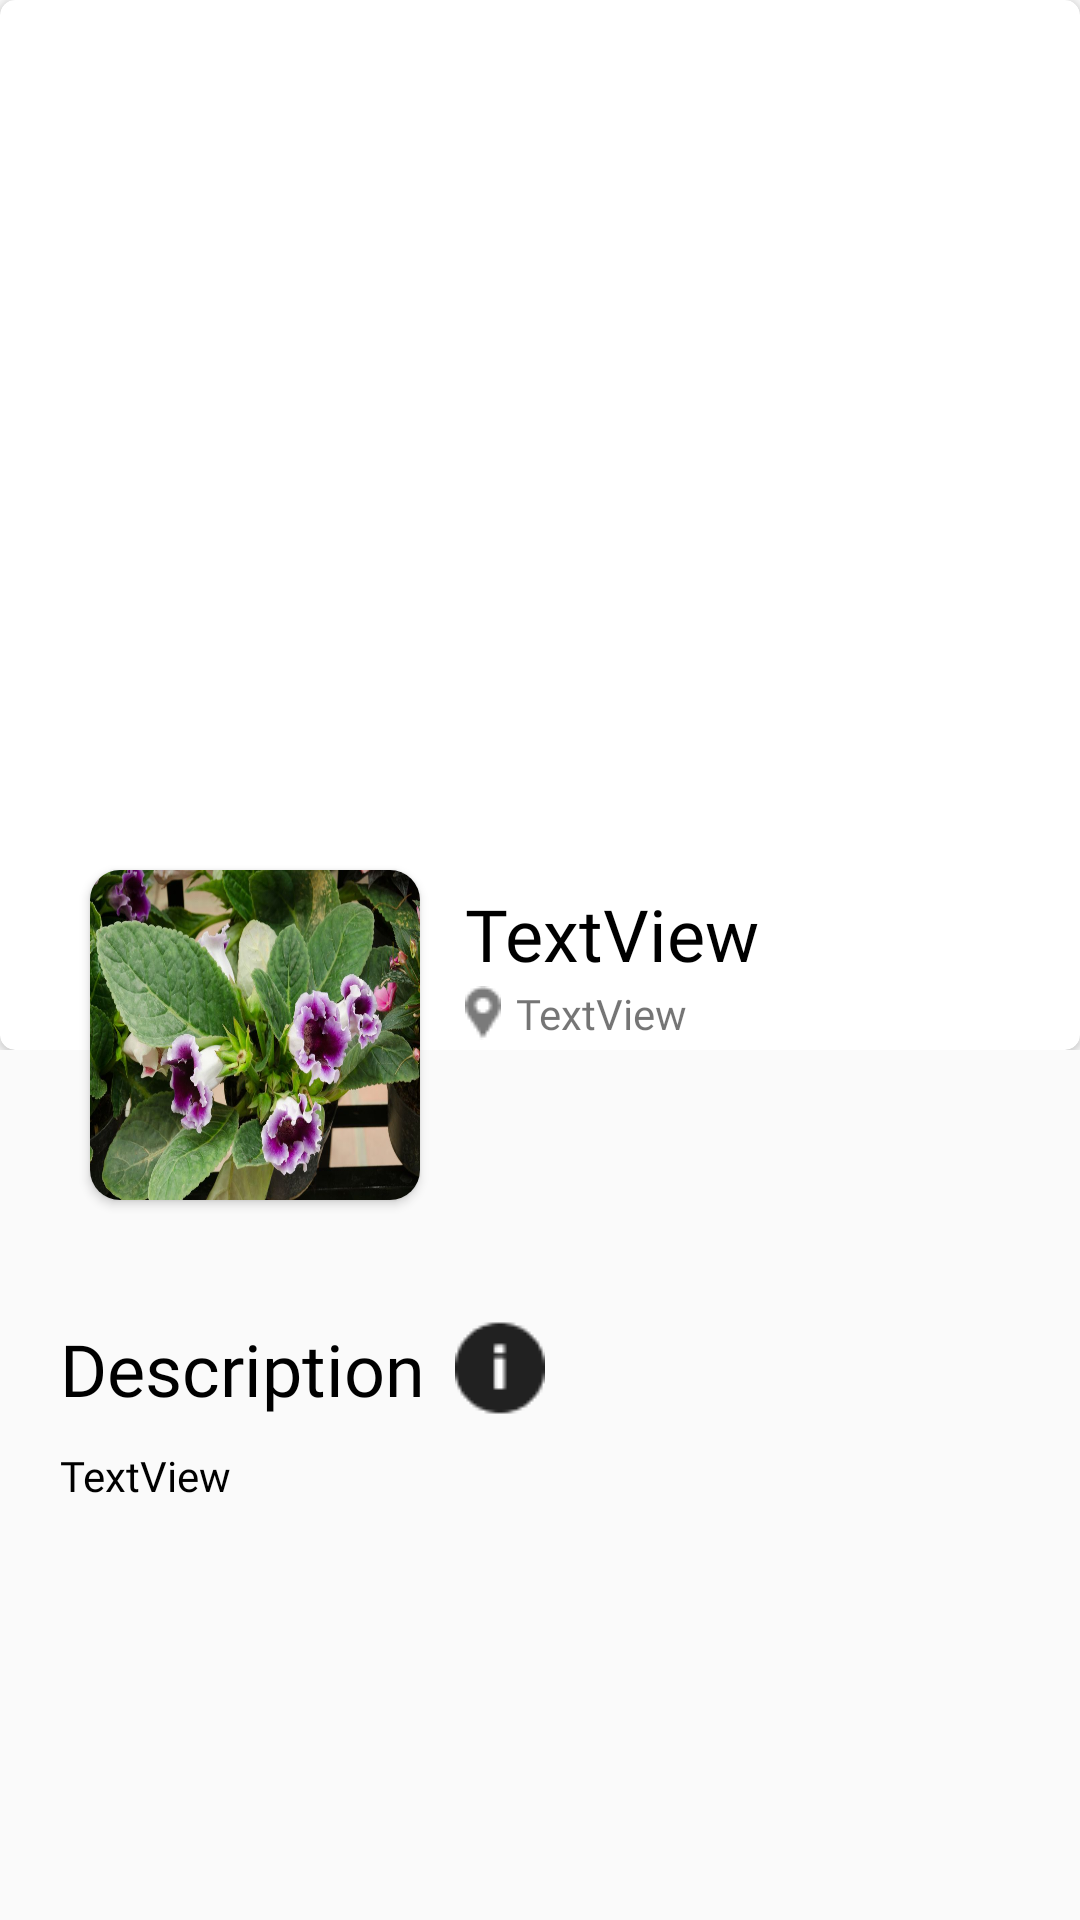

Icons on this 1080w x 1920h Android screen, each with the point to tap as [x,y]:
gloxinia: [255,1035]
